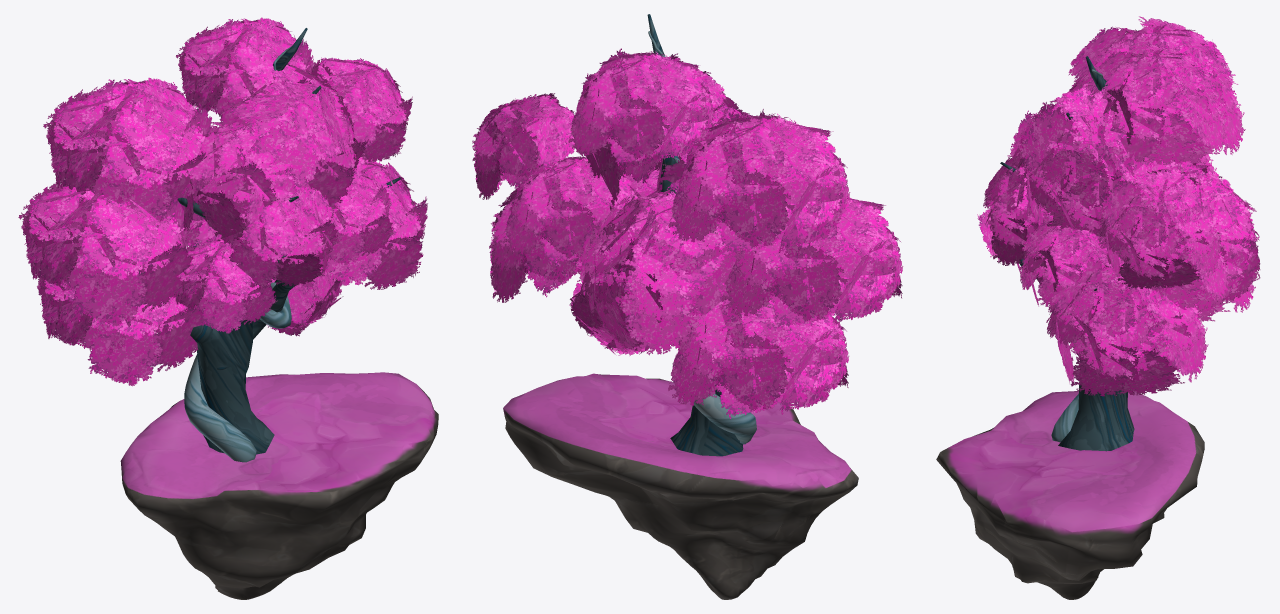
The model's file is FloatingIsland_Final.fbx.
3 views of the same model, side by side, from view 1: azimuth 30°, elevation 25°; view 2: azimuth 150°, elevation 25°; view 3: azimuth 270°, elevation 25° (orthographic). The views are drawn at different scales.
Visible parts, largest first — view 1: LeafDome, Island, Tree, Vine; view 2: LeafDome, Island, Tree, Vine; view 3: LeafDome, Island, Tree, Vine.
Boxes of the visible parts, bbox=[...] form: LeafDome: bbox=[18, 17, 427, 386]; Island: bbox=[120, 372, 438, 599]; Tree: bbox=[139, 28, 400, 454]; Vine: bbox=[184, 41, 301, 462]; LeafDome: bbox=[472, 48, 903, 419]; Island: bbox=[503, 373, 858, 599]; Tree: bbox=[647, 14, 743, 456]; Vine: bbox=[648, 31, 756, 444]; LeafDome: bbox=[977, 16, 1260, 396]; Island: bbox=[936, 390, 1204, 599]; Tree: bbox=[1000, 56, 1134, 451]; Vine: bbox=[1051, 69, 1103, 442].
Size of the model in its own units: 270 by 361 by 188.
